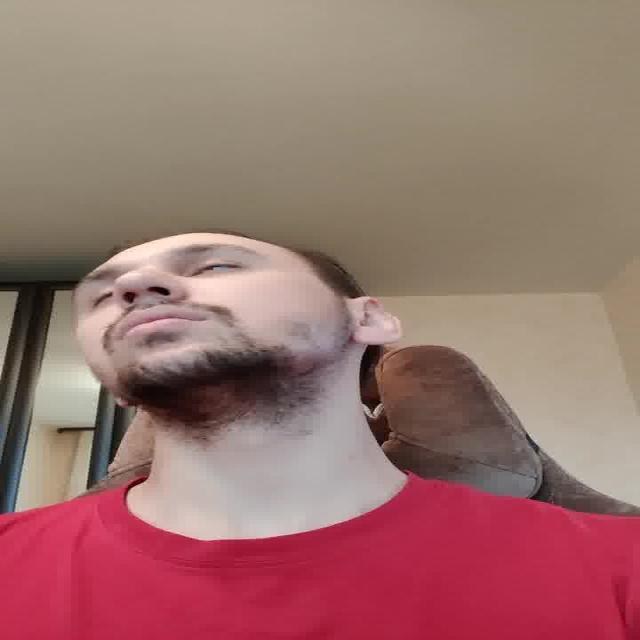earlobe: (350, 331, 398, 346), (115, 396, 134, 410)
eye: (189, 262, 249, 276), (91, 287, 117, 306)
nose: (116, 294, 191, 308)
wholeear: (347, 294, 404, 347)
